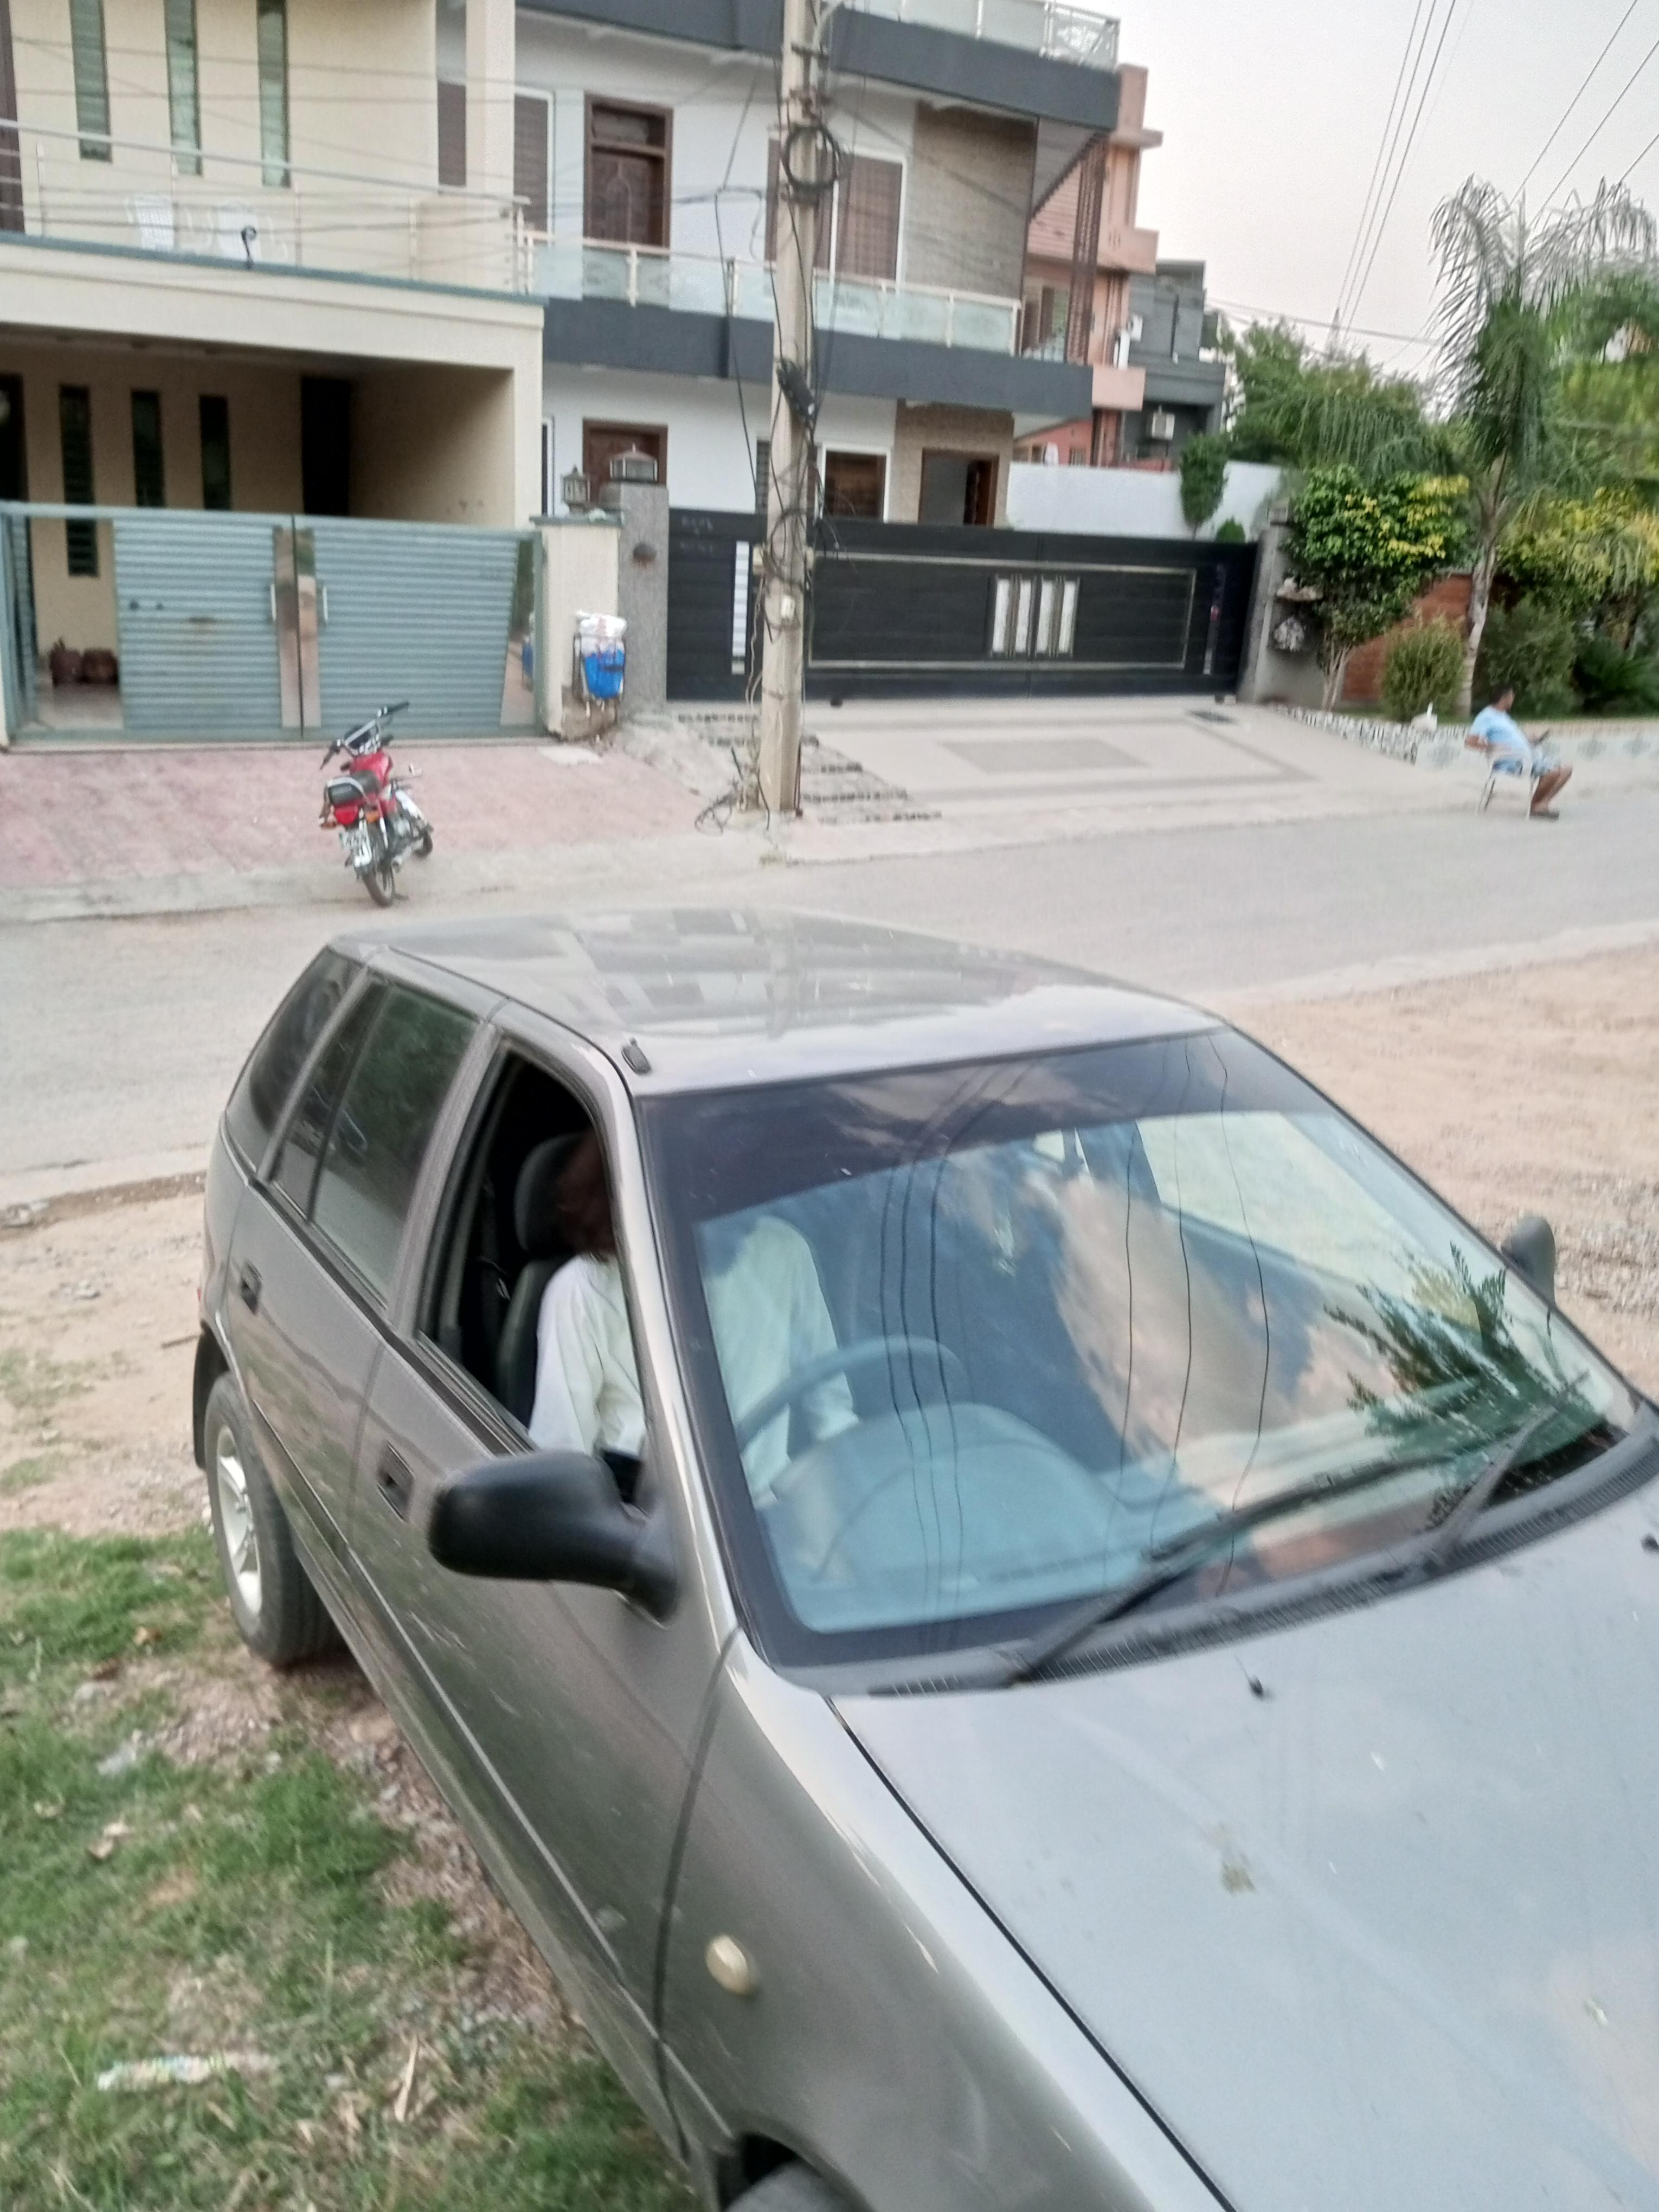windshield: (603, 1024, 1659, 1768)
